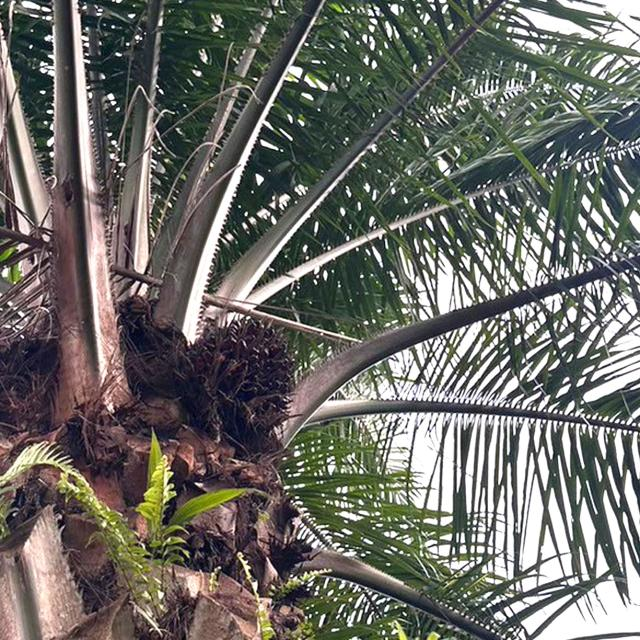ripe: (188, 314, 300, 427)
